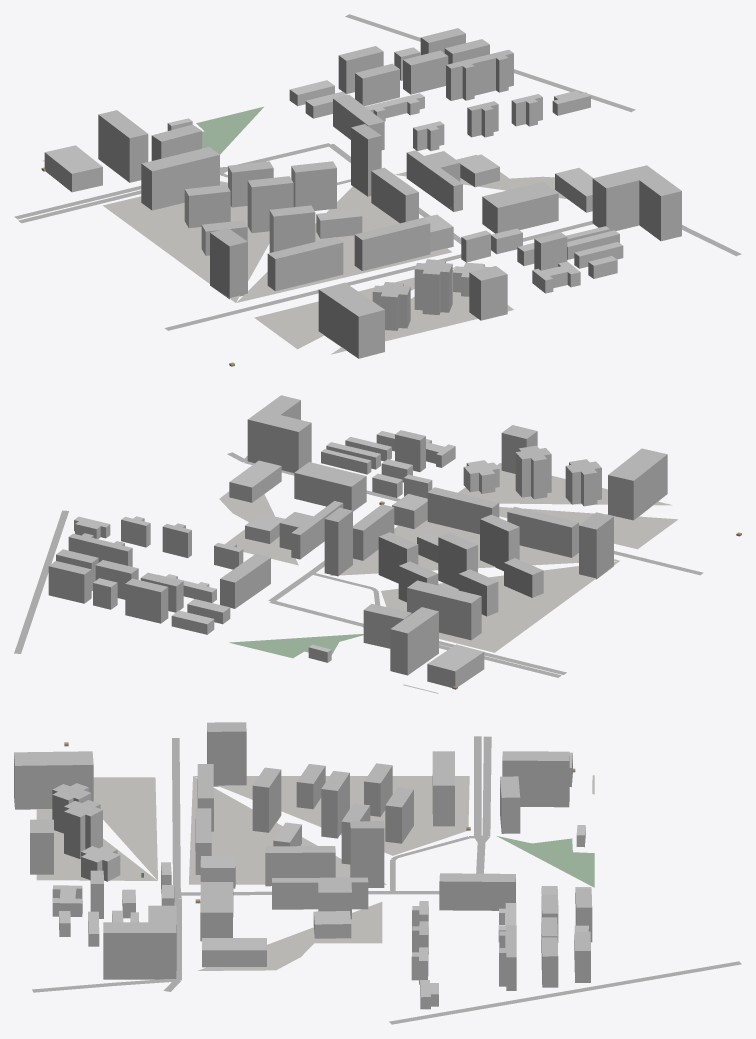
The picture shows the model from 3 angles, top to bottom: view 1: azimuth 30°, elevation 25°; view 2: azimuth 150°, elevation 25°; view 3: azimuth 270°, elevation 25°; orthographic projection. The views are drawn at different scales.
Size of the model in its own units: 617 by 61.28 by 653.
